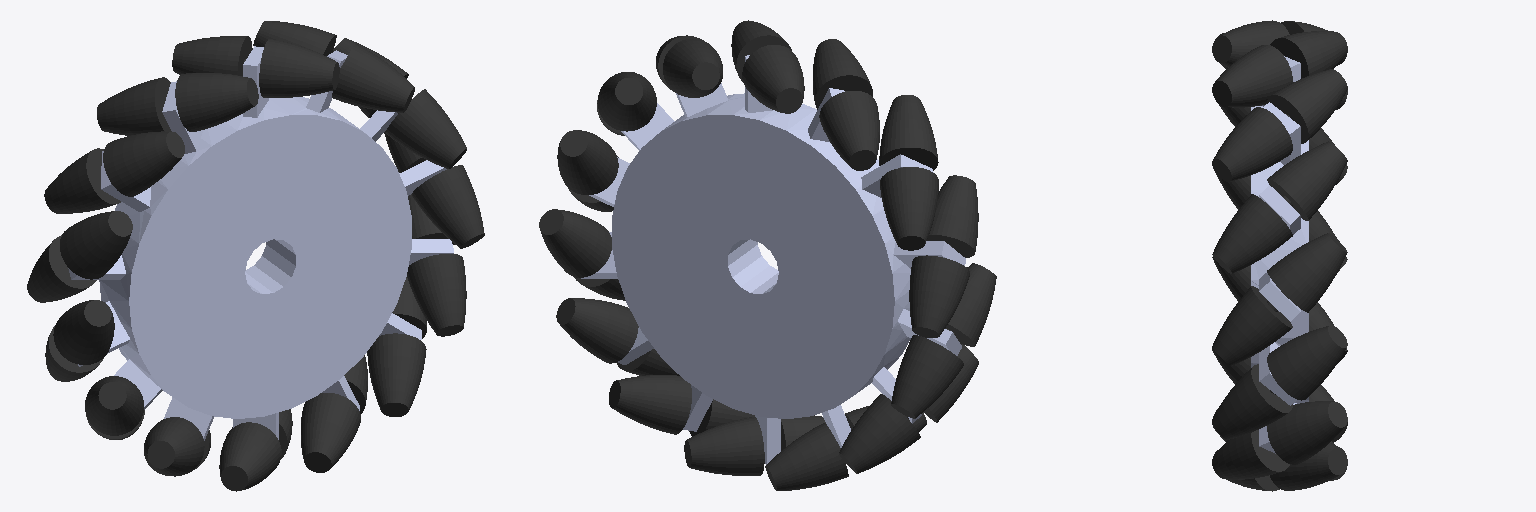
The robot description file, URDF, robot "right_mecanum wheel":
<?xml version="1.0" encoding="utf-8"?>
<!-- This URDF was automatically created by SolidWorks to URDF Exporter! Originally created by [author] ([email redacted]) 
     Commit Version: 1.6.0-4-g7f85cfe  Build Version: 1.6.7995.38578
     For more information, please see http://wiki.ros.org/sw_urdf_exporter -->
<robot
  name="right_mecanum wheel">
  <link
    name="base_link">
    <inertial>
      <origin
        xyz="1.38777878078145E-17 -0.0127 -6.93889390390723E-18"
        rpy="0 0 0" />
      <mass
        value="0.414712198540076" />
      <inertia
        ixx="0.00062309470872441"
        ixy="4.17225376570466E-17"
        ixz="2.27267873828223E-19"
        iyy="0.00120434462423014"
        iyz="4.53707579337119E-17"
        izz="0.000623094709119957" />
    </inertial>
    <visual>
      <origin
        xyz="0 0 0"
        rpy="0 0 0" />
      <geometry>
        <mesh
          filename="package://right_mecanum wheel/meshes/base_link.STL" />
      </geometry>
      <material
        name="">
        <color
          rgba="0.792156862745098 0.819607843137255 0.933333333333333 1" />
      </material>
    </visual>
    <collision>
      <origin
        xyz="0 0 0"
        rpy="0 0 0" />
      <geometry>
        <mesh
          filename="package://right_mecanum wheel/meshes/base_link.STL" />
      </geometry>
    </collision>
  </link>
  <link
    name="RR1">
    <inertial>
      <origin
        xyz="-6.9389E-18 3.0531E-16 0"
        rpy="0 0 0" />
      <mass
        value="0.021119" />
      <inertia
        ixx="8.013E-06"
        ixy="8.4703E-22"
        ixz="-1.2704E-22"
        iyy="1.2724E-06"
        iyz="-1.6829E-20"
        izz="8.013E-06" />
    </inertial>
    <visual>
      <origin
        xyz="0 0 0"
        rpy="0 0 0" />
      <geometry>
        <mesh
          filename="package://right_mecanum wheel/meshes/RR1.STL" />
      </geometry>
      <material
        name="">
        <color
          rgba="0.25098 0.25098 0.25098 1" />
      </material>
    </visual>
    <collision>
      <origin
        xyz="0 0 0"
        rpy="0 0 0" />
      <geometry>
        <mesh
          filename="package://right_mecanum wheel/meshes/RR1.STL" />
      </geometry>
    </collision>
  </link>
  <joint
    name="RR1_joint"
    type="continuous">
    <origin
      xyz="0 -0.0127 0.0889"
      rpy="0 0 0.7854" />
    <parent
      link="base_link" />
    <child
      link="RR1" />
    <axis
      xyz="0 -1 0" />
  </joint>
  <link
    name="RR2">
    <inertial>
      <origin
        xyz="0 3.05311331771918E-16 2.77555756156289E-17"
        rpy="0 0 0" />
      <mass
        value="0.0211185318668681" />
      <inertia
        ixx="8.01298624970929E-06"
        ixy="5.29395592033938E-23"
        ixz="-8.84323377551545E-22"
        iyy="1.27238493435794E-06"
        iyz="-1.36013766739254E-20"
        izz="8.01298624970929E-06" />
    </inertial>
    <visual>
      <origin
        xyz="0 0 0"
        rpy="0 0 0" />
      <geometry>
        <mesh
          filename="package://right_mecanum wheel/meshes/RR2.STL" />
      </geometry>
      <material
        name="">
        <color
          rgba="0.250980392156863 0.250980392156863 0.250980392156863 1" />
      </material>
    </visual>
    <collision>
      <origin
        xyz="0 0 0"
        rpy="0 0 0" />
      <geometry>
        <mesh
          filename="package://right_mecanum wheel/meshes/RR2.STL" />
      </geometry>
    </collision>
  </link>
  <joint
    name="RR2_joint"
    type="continuous">
    <origin
      xyz="0.038572 -0.0127 0.080096"
      rpy="0.32821 0.31183 0.83745" />
    <parent
      link="base_link" />
    <child
      link="RR2" />
    <axis
      xyz="0 -1 0" />
  </joint>
  <link
    name="RR3">
    <inertial>
      <origin
        xyz="2.08166817117217E-17 -0.00317499999999993 -2.77555756156289E-17"
        rpy="0 0 0" />
      <mass
        value="0.0211185318668683" />
      <inertia
        ixx="8.01298624971076E-06"
        ixy="-6.35274710440725E-22"
        ixz="8.25342058235569E-22"
        iyy="1.27238493436077E-06"
        iyz="7.44726957302664E-21"
        izz="8.01298624971076E-06" />
    </inertial>
    <visual>
      <origin
        xyz="0 0 0"
        rpy="0 0 0" />
      <geometry>
        <mesh
          filename="package://right_mecanum wheel/meshes/RR3.STL" />
      </geometry>
      <material
        name="">
        <color
          rgba="0.250980392156863 0.250980392156863 0.250980392156863 1" />
      </material>
    </visual>
    <collision>
      <origin
        xyz="0 0 0"
        rpy="0 0 0" />
      <geometry>
        <mesh
          filename="package://right_mecanum wheel/meshes/RR3.STL" />
      </geometry>
    </collision>
  </link>
  <joint
    name="RR3_joint"
    type="continuous">
    <origin
      xyz="0.068105 -0.010455 0.057184"
      rpy="0.72541 0.58577 1.0133" />
    <parent
      link="base_link" />
    <child
      link="RR3" />
    <axis
      xyz="0 -1 0" />
  </joint>
  <link
    name="RR4">
    <inertial>
      <origin
        xyz="0 8.32667268468867E-17 0"
        rpy="0 0 0" />
      <mass
        value="0.0211185318668683" />
      <inertia
        ixx="8.01298624971077E-06"
        ixy="7.41153828847513E-22"
        ixz="-3.19214095755756E-22"
        iyy="1.27238493436168E-06"
        iyz="-1.71629591511681E-20"
        izz="8.01298624971077E-06" />
    </inertial>
    <visual>
      <origin
        xyz="0 0 0"
        rpy="0 0 0" />
      <geometry>
        <mesh
          filename="package://right_mecanum wheel/meshes/RR4.STL" />
      </geometry>
      <material
        name="">
        <color
          rgba="0.250980392156863 0.250980392156863 0.250980392156863 1" />
      </material>
    </visual>
    <collision>
      <origin
        xyz="0 0 0"
        rpy="0 0 0" />
      <geometry>
        <mesh
          filename="package://right_mecanum wheel/meshes/RR4.STL" />
      </geometry>
    </collision>
  </link>
  <joint
    name="RR4_joint"
    type="continuous">
    <origin
      xyz="0.0866710913929642 -0.0127 0.019782111028716"
      rpy="1.25856910663362 0.760630252375355 1.35184274422249" />
    <parent
      link="base_link" />
    <child
      link="RR4" />
    <axis
      xyz="0 -1 0" />
  </joint>
  <link
    name="RR5">
    <inertial>
      <origin
        xyz="1.38777878078145E-17 2.77555756156289E-16 -1.30104260698261E-17"
        rpy="0 0 0" />
      <mass
        value="0.0211185318668681" />
      <inertia
        ixx="8.01298624970884E-06"
        ixy="6.88214269644119E-22"
        ixz="-4.16049003974305E-22"
        iyy="1.27238493435692E-06"
        iyz="4.18203508324199E-22"
        izz="8.01298624970884E-06" />
    </inertial>
    <visual>
      <origin
        xyz="0 0 0"
        rpy="0 0 0" />
      <geometry>
        <mesh
          filename="package://right_mecanum wheel/meshes/RR5.STL" />
      </geometry>
      <material
        name="">
        <color
          rgba="0.250980392156863 0.250980392156863 0.250980392156863 1" />
      </material>
    </visual>
    <collision>
      <origin
        xyz="0 0 0"
        rpy="0 0 0" />
      <geometry>
        <mesh
          filename="package://right_mecanum wheel/meshes/RR5.STL" />
      </geometry>
    </collision>
  </link>
  <joint
    name="RR5_joint"
    type="continuous">
    <origin
      xyz="0.086671 -0.0127 -0.019782"
      rpy="1.883 0.76063 1.7897" />
    <parent
      link="base_link" />
    <child
      link="RR5" />
    <axis
      xyz="0 -1 0" />
  </joint>
  <link
    name="RR6">
    <inertial>
      <origin
        xyz="6.9389E-18 9.0206E-17 -6.0715E-18"
        rpy="0 0 0" />
      <mass
        value="0.021119" />
      <inertia
        ixx="8.013E-06"
        ixy="-8.9997E-22"
        ixz="-6.9877E-22"
        iyy="1.2724E-06"
        iyz="9.5573E-22"
        izz="8.013E-06" />
    </inertial>
    <visual>
      <origin
        xyz="0 0 0"
        rpy="0 0 0" />
      <geometry>
        <mesh
          filename="package://right_mecanum wheel/meshes/RR6.STL" />
      </geometry>
      <material
        name="">
        <color
          rgba="0.25098 0.25098 0.25098 1" />
      </material>
    </visual>
    <collision>
      <origin
        xyz="0 0 0"
        rpy="0 0 0" />
      <geometry>
        <mesh
          filename="package://right_mecanum wheel/meshes/RR6.STL" />
      </geometry>
    </collision>
  </link>
  <joint
    name="RR6_joint"
    type="continuous">
    <origin
      xyz="0.069505 -0.0127 -0.055428"
      rpy="2.4162 0.58577 2.1283" />
    <parent
      link="base_link" />
    <child
      link="RR6" />
    <axis
      xyz="0 -1 0" />
  </joint>
  <link
    name="RR7">
    <inertial>
      <origin
        xyz="-1.38777878078145E-17 2.91433543964104E-16 8.67361737988404E-18"
        rpy="0 0 0" />
      <mass
        value="0.0211185318668683" />
      <inertia
        ixx="8.01298624971091E-06"
        ixy="-1.58818677610181E-22"
        ixz="3.59873978755508E-22"
        iyy="1.27238493436106E-06"
        iyz="-3.01756897575569E-22"
        izz="8.01298624971091E-06" />
    </inertial>
    <visual>
      <origin
        xyz="0 0 0"
        rpy="0 0 0" />
      <geometry>
        <mesh
          filename="package://right_mecanum wheel/meshes/RR7.STL" />
      </geometry>
      <material
        name="">
        <color
          rgba="0.250980392156863 0.250980392156863 0.250980392156863 1" />
      </material>
    </visual>
    <collision>
      <origin
        xyz="0 0 0"
        rpy="0 0 0" />
      <geometry>
        <mesh
          filename="package://right_mecanum wheel/meshes/RR7.STL" />
      </geometry>
    </collision>
  </link>
  <joint
    name="RR7_joint"
    type="continuous">
    <origin
      xyz="0.038572 -0.0127 -0.080096"
      rpy="2.8134 0.31183 2.3041" />
    <parent
      link="base_link" />
    <child
      link="RR7" />
    <axis
      xyz="0 -1 0" />
  </joint>
  <link
    name="RR8">
    <inertial>
      <origin
        xyz="4.4409E-16 -3.4694E-16 0"
        rpy="0 0 0" />
      <mass
        value="0.021119" />
      <inertia
        ixx="8.013E-06"
        ixy="-4.7646E-22"
        ixz="-8.0185E-23"
        iyy="1.2724E-06"
        iyz="-3.3259E-20"
        izz="8.013E-06" />
    </inertial>
    <visual>
      <origin
        xyz="0 0 0"
        rpy="0 0 0" />
      <geometry>
        <mesh
          filename="package://right_mecanum wheel/meshes/RR8.STL" />
      </geometry>
      <material
        name="">
        <color
          rgba="0.25098 0.25098 0.25098 1" />
      </material>
    </visual>
    <collision>
      <origin
        xyz="0 0 0"
        rpy="0 0 0" />
      <geometry>
        <mesh
          filename="package://right_mecanum wheel/meshes/RR8.STL" />
      </geometry>
    </collision>
  </link>
  <joint
    name="RR8_joint"
    type="continuous">
    <origin
      xyz="0 -0.0126999999999999 -0.0889"
      rpy="-3.14159265358979 0 2.35619449019234" />
    <parent
      link="base_link" />
    <child
      link="RR8" />
    <axis
      xyz="0 -1 0" />
  </joint>
  <link
    name="RR9">
    <inertial>
      <origin
        xyz="1.38777878078145E-17 3.19189119579733E-16 2.77555756156289E-17"
        rpy="0 0 0" />
      <mass
        value="0.0211185318668682" />
      <inertia
        ixx="8.01298624970937E-06"
        ixy="-3.70576914423756E-22"
        ixz="4.50389028775613E-22"
        iyy="1.27238493435809E-06"
        iyz="-4.63017191477683E-22"
        izz="8.01298624970937E-06" />
    </inertial>
    <visual>
      <origin
        xyz="0 0 0"
        rpy="0 0 0" />
      <geometry>
        <mesh
          filename="package://right_mecanum wheel/meshes/RR9.STL" />
      </geometry>
      <material
        name="">
        <color
          rgba="0.250980392156863 0.250980392156863 0.250980392156863 1" />
      </material>
    </visual>
    <collision>
      <origin
        xyz="0 0 0"
        rpy="0 0 0" />
      <geometry>
        <mesh
          filename="package://right_mecanum wheel/meshes/RR9.STL" />
      </geometry>
    </collision>
  </link>
  <joint
    name="RR9_joint"
    type="continuous">
    <origin
      xyz="-0.038572 -0.0127 -0.080096"
      rpy="-2.8134 -0.31183 2.3041" />
    <parent
      link="base_link" />
    <child
      link="RR9" />
    <axis
      xyz="0 -1 0" />
  </joint>
  <link
    name="RR10">
    <inertial>
      <origin
        xyz="2.77555756156289E-17 8.32667268468867E-17 4.16333634234434E-17"
        rpy="0 0 0" />
      <mass
        value="0.0211185318668683" />
      <inertia
        ixx="8.01298624971077E-06"
        ixy="0"
        ixz="-2.22983584553412E-22"
        iyy="1.27238493436077E-06"
        iyz="-5.14264773883416E-22"
        izz="8.01298624971077E-06" />
    </inertial>
    <visual>
      <origin
        xyz="0 0 0"
        rpy="0 0 0" />
      <geometry>
        <mesh
          filename="package://right_mecanum wheel/meshes/RR10.STL" />
      </geometry>
      <material
        name="">
        <color
          rgba="0.250980392156863 0.250980392156863 0.250980392156863 1" />
      </material>
    </visual>
    <collision>
      <origin
        xyz="0 0 0"
        rpy="0 0 0" />
      <geometry>
        <mesh
          filename="package://right_mecanum wheel/meshes/RR10.STL" />
      </geometry>
    </collision>
  </link>
  <joint
    name="RR10_joint"
    type="continuous">
    <origin
      xyz="-0.069505 -0.0127 -0.055428"
      rpy="-2.4162 -0.58577 2.1283" />
    <parent
      link="base_link" />
    <child
      link="RR10" />
    <axis
      xyz="0 -1 0" />
  </joint>
  <link
    name="RR11">
    <inertial>
      <origin
        xyz="-1.3878E-17 1.0408E-16 -8.3267E-17"
        rpy="0 0 0" />
      <mass
        value="0.021119" />
      <inertia
        ixx="8.013E-06"
        ixy="-1.5882E-22"
        ixz="9.1633E-23"
        iyy="1.2724E-06"
        iyz="-2.1923E-22"
        izz="8.013E-06" />
    </inertial>
    <visual>
      <origin
        xyz="0 0 0"
        rpy="0 0 0" />
      <geometry>
        <mesh
          filename="package://right_mecanum wheel/meshes/RR11.STL" />
      </geometry>
      <material
        name="">
        <color
          rgba="0.25098 0.25098 0.25098 1" />
      </material>
    </visual>
    <collision>
      <origin
        xyz="0 0 0"
        rpy="0 0 0" />
      <geometry>
        <mesh
          filename="package://right_mecanum wheel/meshes/RR11.STL" />
      </geometry>
    </collision>
  </link>
  <joint
    name="RR11_joint"
    type="continuous">
    <origin
      xyz="-0.086671 -0.0127 -0.019782"
      rpy="-1.883 -0.76063 1.7897" />
    <parent
      link="base_link" />
    <child
      link="RR11" />
    <axis
      xyz="0 -1 0" />
  </joint>
  <link
    name="RR12">
    <inertial>
      <origin
        xyz="0 8.3267E-17 -2.7756E-17"
        rpy="0 0 0" />
      <mass
        value="0.021119" />
      <inertia
        ixx="8.013E-06"
        ixy="4.7646E-22"
        ixz="-2.0998E-22"
        iyy="1.2724E-06"
        iyz="-3.7503E-22"
        izz="8.013E-06" />
    </inertial>
    <visual>
      <origin
        xyz="0 0 0"
        rpy="0 0 0" />
      <geometry>
        <mesh
          filename="package://right_mecanum wheel/meshes/RR12.STL" />
      </geometry>
      <material
        name="">
        <color
          rgba="0.25098 0.25098 0.25098 1" />
      </material>
    </visual>
    <collision>
      <origin
        xyz="0 0 0"
        rpy="0 0 0" />
      <geometry>
        <mesh
          filename="package://right_mecanum wheel/meshes/RR12.STL" />
      </geometry>
    </collision>
  </link>
  <joint
    name="RR12_joint"
    type="continuous">
    <origin
      xyz="-0.086671 -0.0127 0.019782"
      rpy="-1.2586 -0.76063 1.3518" />
    <parent
      link="base_link" />
    <child
      link="RR12" />
    <axis
      xyz="0 -1 0" />
  </joint>
  <link
    name="RR13">
    <inertial>
      <origin
        xyz="1.3878E-17 4.6491E-16 2.7756E-17"
        rpy="0 0 0" />
      <mass
        value="0.021119" />
      <inertia
        ixx="8.013E-06"
        ixy="-1.0588E-22"
        ixz="3.7257E-22"
        iyy="1.2724E-06"
        iyz="-5.4055E-22"
        izz="8.013E-06" />
    </inertial>
    <visual>
      <origin
        xyz="0 0 0"
        rpy="0 0 0" />
      <geometry>
        <mesh
          filename="package://right_mecanum wheel/meshes/RR13.STL" />
      </geometry>
      <material
        name="">
        <color
          rgba="0.25098 0.25098 0.25098 1" />
      </material>
    </visual>
    <collision>
      <origin
        xyz="0 0 0"
        rpy="0 0 0" />
      <geometry>
        <mesh
          filename="package://right_mecanum wheel/meshes/RR13.STL" />
      </geometry>
    </collision>
  </link>
  <joint
    name="RR13_joint"
    type="continuous">
    <origin
      xyz="-0.069505 -0.0127 0.055428"
      rpy="-0.72541 -0.58577 1.0133" />
    <parent
      link="base_link" />
    <child
      link="RR13" />
    <axis
      xyz="0 -1 0" />
  </joint>
  <link
    name="RR14">
    <inertial>
      <origin
        xyz="0 2.9143E-16 0"
        rpy="0 0 0" />
      <mass
        value="0.021119" />
      <inertia
        ixx="8.013E-06"
        ixy="-9.5291E-22"
        ixz="-4.4744E-22"
        iyy="1.2724E-06"
        iyz="5.7156E-22"
        izz="8.013E-06" />
    </inertial>
    <visual>
      <origin
        xyz="0 0 0"
        rpy="0 0 0" />
      <geometry>
        <mesh
          filename="package://right_mecanum wheel/meshes/RR14.STL" />
      </geometry>
      <material
        name="">
        <color
          rgba="0.25098 0.25098 0.25098 1" />
      </material>
    </visual>
    <collision>
      <origin
        xyz="0 0 0"
        rpy="0 0 0" />
      <geometry>
        <mesh
          filename="package://right_mecanum wheel/meshes/RR14.STL" />
      </geometry>
    </collision>
  </link>
  <joint
    name="RR14_joint"
    type="continuous">
    <origin
      xyz="-0.038572 -0.0127 0.080096"
      rpy="-0.32821 -0.31183 0.83745" />
    <parent
      link="base_link" />
    <child
      link="RR14" />
    <axis
      xyz="0 -1 0" />
  </joint>
</robot>

--- What the picture shows (computed from the rendered views, not written in the file) ---
3 views of the same robot in one strip: view 1: azimuth 30°, elevation 25°; view 2: azimuth 150°, elevation 25°; view 3: azimuth 270°, elevation 25° (orthographic).
Model right_mecanum wheel with 15 links and 14 joints (14 continuous), rooted at base_link, posed all joints at 0.
Visible links, largest first — view 1: base_link, RR14, RR13, RR1, RR12, RR2, RR6, RR5, RR7, RR4, RR11, RR3 (+3 smaller); view 2: base_link, RR13, RR12, RR14, RR11, RR10, RR1, RR7, RR6, RR8, RR5, RR9 (+3 smaller); view 3: RR3, RR4, RR5, RR2, RR6, base_link, RR1, RR7, RR14, RR10, RR11, RR9 (+1 smaller).
Boxes of the visible links, <box> form: base_link: <box>68,46,453,440</box>; RR14: <box>97,73,258,135</box>; RR13: <box>44,131,184,213</box>; RR1: <box>172,36,339,97</box>; RR12: <box>27,211,132,302</box>; RR2: <box>253,21,414,112</box>; RR6: <box>367,277,426,416</box>; RR5: <box>407,194,466,336</box>; RR7: <box>301,355,367,472</box>; RR4: <box>384,131,484,248</box>; RR11: <box>45,300,114,381</box>; RR3: <box>332,38,466,168</box>; base_link: <box>581,55,965,464</box>; RR13: <box>879,95,938,250</box>; RR12: <box>909,175,978,337</box>; RR14: <box>813,39,879,170</box>; RR11: <box>891,263,996,418</box>; RR10: <box>839,343,978,473</box>; RR1: <box>731,20,804,113</box>; RR7: <box>609,375,754,436</box>; RR6: <box>556,298,679,375</box>; RR8: <box>684,415,825,475</box>; RR5: <box>539,209,625,300</box>; RR9: <box>765,406,926,490</box>; RR3: <box>1212,141,1347,273</box>; RR4: <box>1212,233,1347,365</box>; RR5: <box>1212,325,1347,439</box>; RR2: <box>1212,69,1347,181</box>; RR6: <box>1212,401,1347,479</box>; base_link: <box>1251,56,1308,453</box>; RR1: <box>1212,31,1347,107</box>; RR7: <box>1212,443,1347,491</box>; RR14: <box>1212,20,1347,67</box>; RR10: <box>1212,257,1347,363</box>; RR11: <box>1212,165,1347,271</box>; RR9: <box>1212,347,1347,442</box>.
Size in the robot's own frame: 0.201 by 0.0584 by 0.2032 metres.
Meshes: 15 distinct files referenced, 15 mesh visuals loaded (15 binary STL).